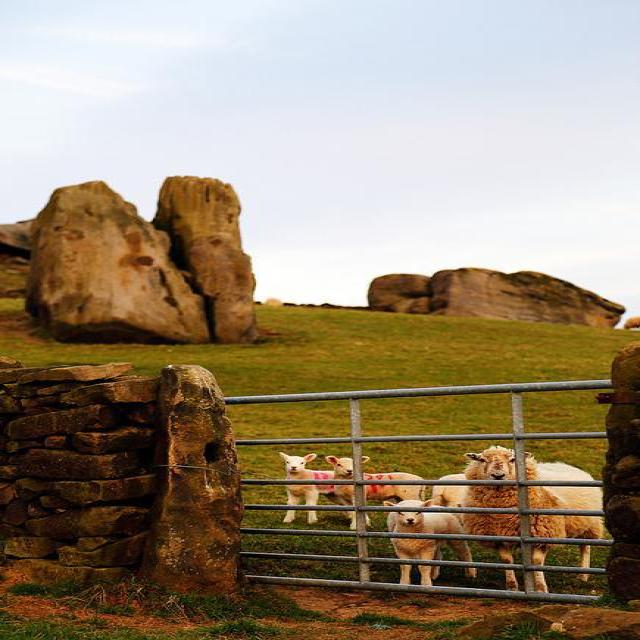Sheep: (462, 445, 602, 604), (383, 499, 478, 591), (325, 455, 427, 529), (277, 450, 347, 525)
